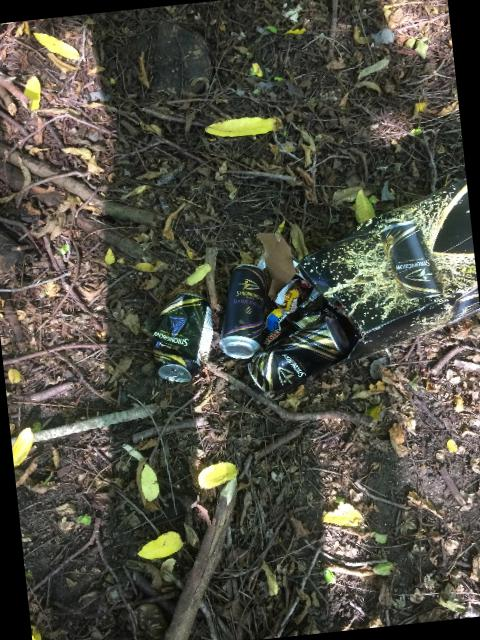metal: (248, 316, 342, 392), (152, 292, 213, 383), (219, 265, 267, 358)
